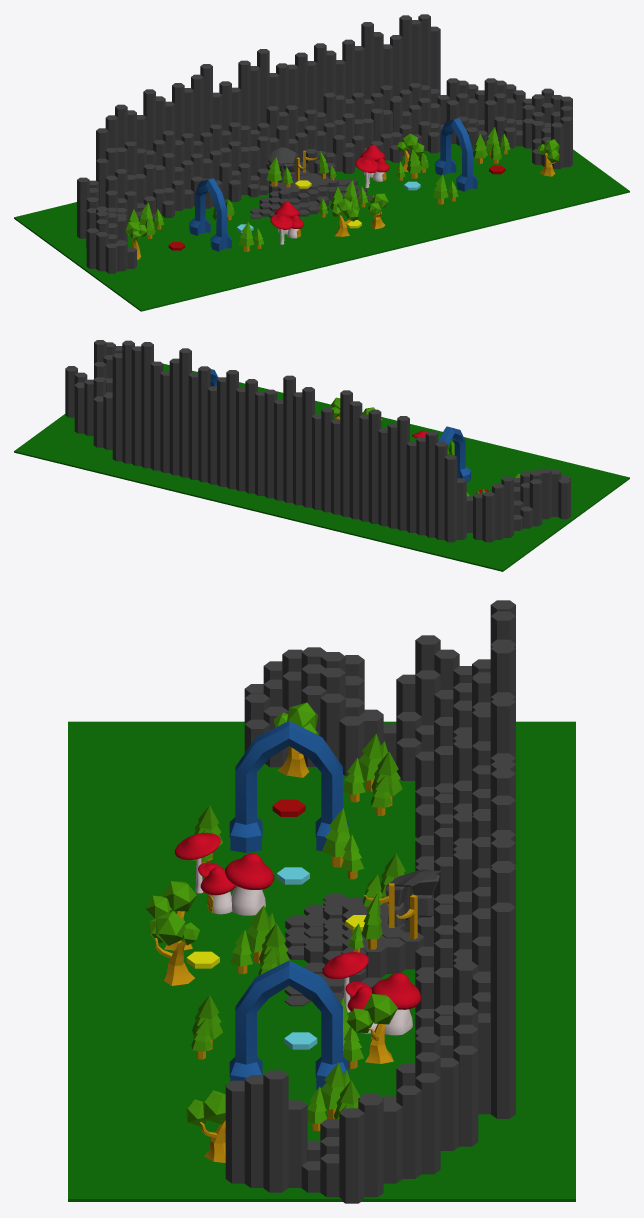
File: World1.fbx
3 renders of one model, top to bottom at view 1: azimuth 30°, elevation 25°; view 2: azimuth 150°, elevation 25°; view 3: azimuth 270°, elevation 25°, orthographic. The views are drawn at different scales.
Parts seen in each view (by area): view 1: pCube140, pCylinder92, pCylinder296, pCylinder550, pCylinder536, pCylinder539, pCylinder542, pCylinder562, pCylinder569, pCylinder543, pCylinder552, pCylinder538 (+21 smaller); view 2: pCube140, pCylinder550, pCylinder552, pCylinder539, pCylinder536, pCylinder549, pCylinder553, pCylinder569, pCylinder542, pCylinder557, pCylinder562, pCylinder543 (+40 smaller); view 3: pCube140, pCylinder92, pCylinder296, pCylinder560, pCylinder401, pCylinder390, pCylinder399, pCylinder385, pCylinder365, pCylinder377, pCylinder397, pCylinder371 (+20 smaller).
Part boxes in pixels (box(x1,y1,x2,y2)): pCube140: box(14, 144, 629, 311); pCylinder92: box(189, 178, 231, 251); pCylinder296: box(435, 118, 477, 191); pCylinder550: box(361, 22, 373, 99); pCylinder536: box(399, 15, 411, 89); pCylinder539: box(257, 49, 269, 122); pCylinder542: box(238, 60, 250, 127); pCylinder562: box(418, 14, 430, 87); pCylinder569: box(200, 64, 212, 132); pCylinder543: box(314, 43, 326, 112); pCylinder552: box(191, 74, 203, 140); pCylinder538: box(250, 66, 260, 129); pCube140: box(14, 361, 629, 571); pCylinder550: box(179, 348, 191, 477); pCylinder552: box(349, 401, 362, 519); pCylinder539: box(283, 375, 295, 502); pCylinder536: box(141, 342, 153, 468); pCylinder549: box(131, 346, 141, 465); pCylinder553: box(368, 409, 381, 523); pCylinder569: box(340, 390, 352, 516); pCylinder542: box(302, 387, 314, 507); pCylinder557: box(169, 358, 179, 475); pCylinder562: box(122, 340, 134, 463); pCylinder543: box(226, 370, 238, 489); pCube140: box(68, 721, 575, 1201); pCylinder92: box(229, 721, 348, 852); pCylinder296: box(229, 960, 348, 1090); pCylinder560: box(490, 902, 515, 1118); pCylinder401: box(263, 1070, 288, 1192); pCylinder390: box(339, 1108, 364, 1203); pCylinder399: box(244, 1075, 263, 1187); pCylinder385: box(358, 1096, 383, 1197); pCylinder365: box(453, 1045, 478, 1146); pCylinder377: box(415, 1073, 440, 1174); pCylinder397: box(225, 1082, 244, 1183); pCylinder371: box(396, 1085, 421, 1178).
Size of the model in its own units: 1209 by 299 by 540.
